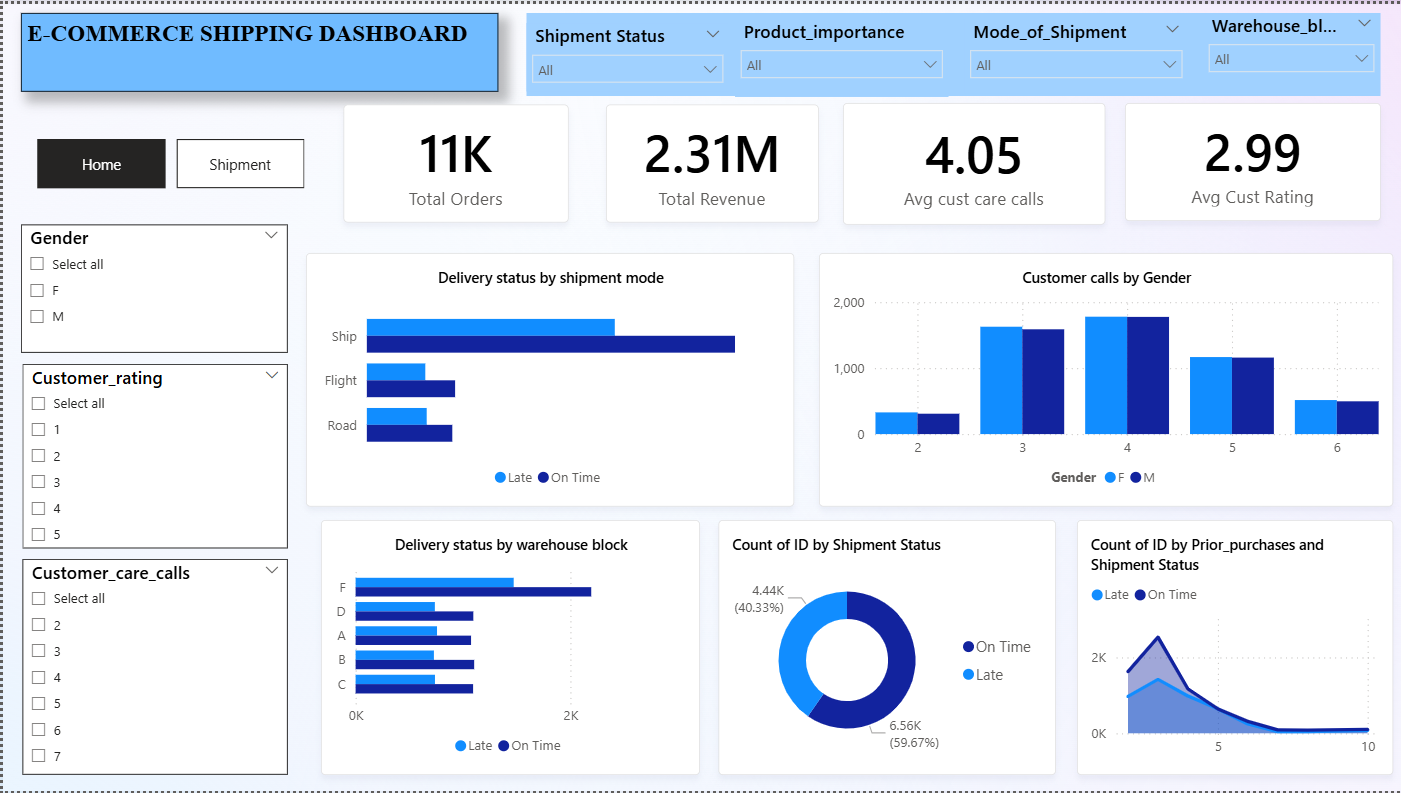

Layout of this report page (visuals, bound fields, positions):
{"tool":"powerbi","page":{"name":"Home","canvas":[1280,720],"ordinal":0},"visuals":[{"type":"textbox","box":[17,7.6,436.5,71.8],"z":0},{"type":"slicer","fields":{"Values":["in.Product_importance"]},"box":[670.7,12.8,195.3,71.2],"z":1000,"group":"g1"},{"type":"card","fields":{"Values":["in.Total Orders"]},"box":[311.8,92.6,206,107.7],"z":1000},{"type":"slicer","fields":{"Values":["in.Mode_of_Shipment"]},"box":[880.1,12.8,204.4,68.1],"z":2000,"group":"g1"},{"type":"card","fields":{"Values":["in.Total Revenue"]},"box":[551.8,92.6,194.6,107.7],"z":2000},{"type":"slicer","fields":{"Values":["in.Warehouse_block"]},"box":[1097.9,7.6,161.9,74.1],"z":3000,"group":"g1"},{"type":"card","fields":{"Values":["in.Avg cust care calls"]},"box":[769.1,90.7,240,111.5],"z":3000},{"type":"card","fields":{"Values":["in.Avg Cust Rating"]},"box":[1026.1,90.7,234.3,107.7],"z":4000},{"type":"slicer","fields":{"Values":["in.Gender"]},"box":[17,202.2,243.8,117.2],"z":5000},{"type":"slicer","fields":{"Values":["in.Customer_rating"]},"box":[17.8,329.4,242.9,168.8],"z":6000},{"type":"slicer","fields":{"Values":["in.Customer_care_calls"]},"box":[17.8,507.8,242.9,197.6],"z":7000},{"type":"clusteredColumnChart","title":"Customer calls by Gender","fields":{"Category":["in.Customer_care_calls"],"Series":["in.Gender"],"Y":["CountNonNull(in.ID)"]},"box":[746.5,227.1,525.4,231.7],"z":8000},{"type":"donutChart","fields":{"Category":["in.Shipment Status"],"Y":["CountNonNull(in.ID)"]},"box":[654.1,472.4,308.9,233.2],"z":9000},{"type":"clusteredBarChart","title":"Delivery status by warehouse block","fields":{"Category":["in.Warehouse_block"],"Series":["in.Shipment Status"],"Y":["CountNonNull(in.ID)"]},"box":[290.7,472.4,346.8,233.2],"z":10000},{"type":"slicer","fields":{"Values":["in.Shipment Status"]},"box":[479.3,17.3,184.7,62.1],"z":10002,"group":"g1"},{"type":"clusteredBarChart","title":"Delivery status by shipment mode","fields":{"Series":["in.Shipment Status"],"Category":["in.Mode_of_Shipment"],"Y":["CountNonNull(in.ID)"]},"box":[277.1,227.1,446.7,231.7],"z":11000},{"type":"group","id":"g1","title":"Group 1","box":[479.3,7.6,780.5,76.4],"z":12000},{"type":"pageNavigator","box":[32.1,122.8,245.7,45.4],"z":13000},{"type":"areaChart","fields":{"Category":["in.Prior_purchases"],"Series":["in.Shipment Status"],"Y":["CountNonNull(in.ID)"]},"box":[982.7,472.4,289.2,233.2],"z":14000}]}

Visuals, with their boxes in screenshot pixels (x1, y1, x2, y2), scaled from the page's 1280x720 canvas onto the 1401x793 screenshot:
textbox: 19, 8, 496, 87
slicer - in.Product_importance: 734, 14, 948, 93
card - in.Total Orders: 341, 102, 567, 221
slicer - in.Mode_of_Shipment: 963, 14, 1187, 89
card - in.Total Revenue: 604, 102, 817, 221
slicer - in.Warehouse_block: 1202, 8, 1379, 90
card - in.Avg cust care calls: 842, 100, 1104, 223
card - in.Avg Cust Rating: 1123, 100, 1380, 219
slicer - in.Gender: 19, 223, 285, 352
slicer - in.Customer_rating: 19, 363, 285, 549
slicer - in.Customer_care_calls: 19, 559, 285, 777
"Customer calls by Gender" clusteredColumnChart: 817, 250, 1392, 505
donutChart - in.Shipment Status x CountNonNull(in.ID): 716, 520, 1054, 777
"Delivery status by warehouse block" clusteredBarChart: 318, 520, 698, 777
slicer - in.Shipment Status: 525, 19, 727, 87
"Delivery status by shipment mode" clusteredBarChart: 303, 250, 792, 505
"Group 1" group: 525, 8, 1379, 93
pageNavigator: 35, 135, 304, 185
areaChart - in.Prior_purchases x in.Shipment Status: 1076, 520, 1392, 777
